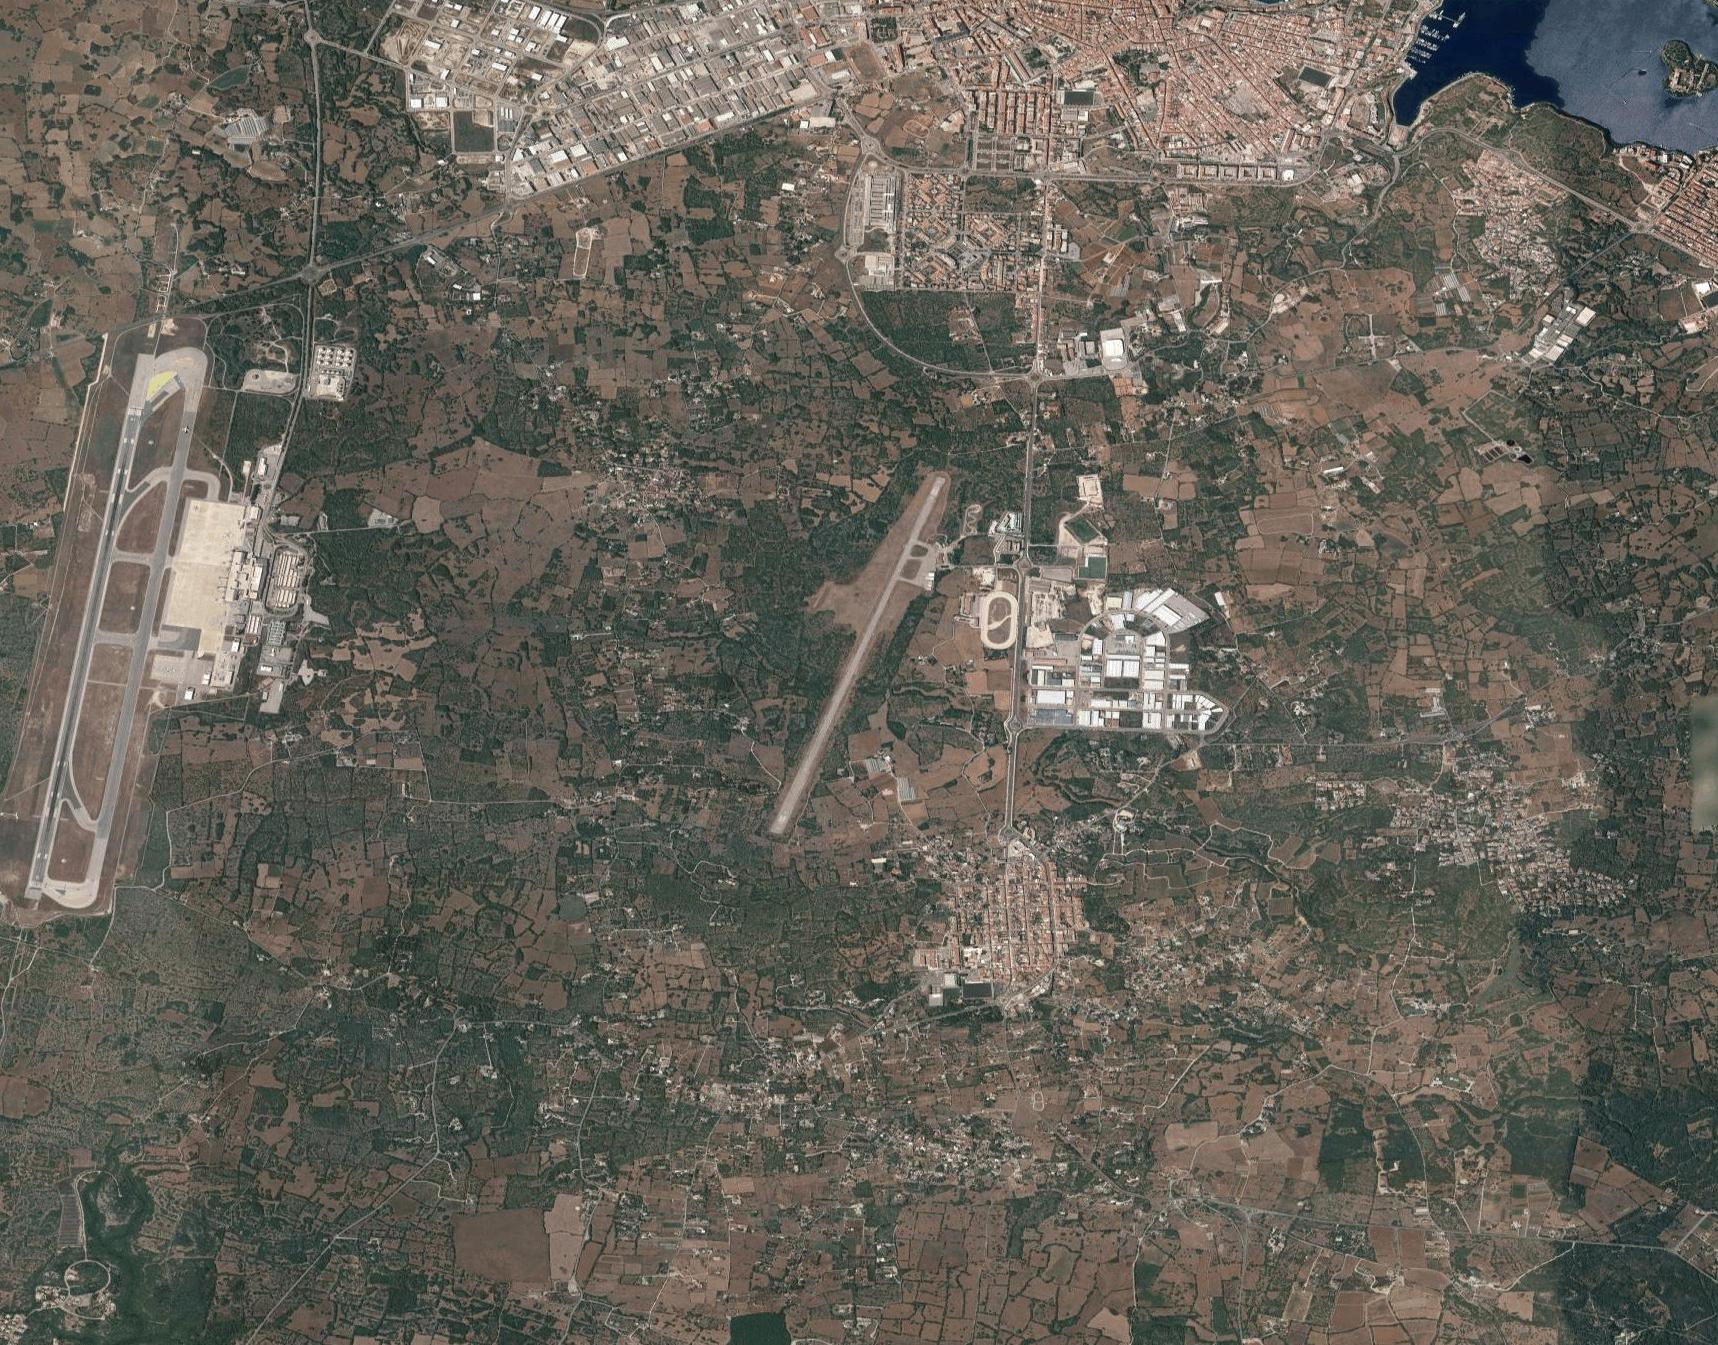airport: (20, 339, 269, 914), (767, 472, 952, 842)
